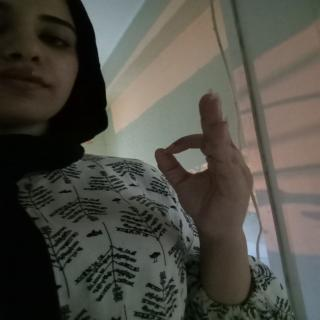Space: (149, 90, 263, 242)
